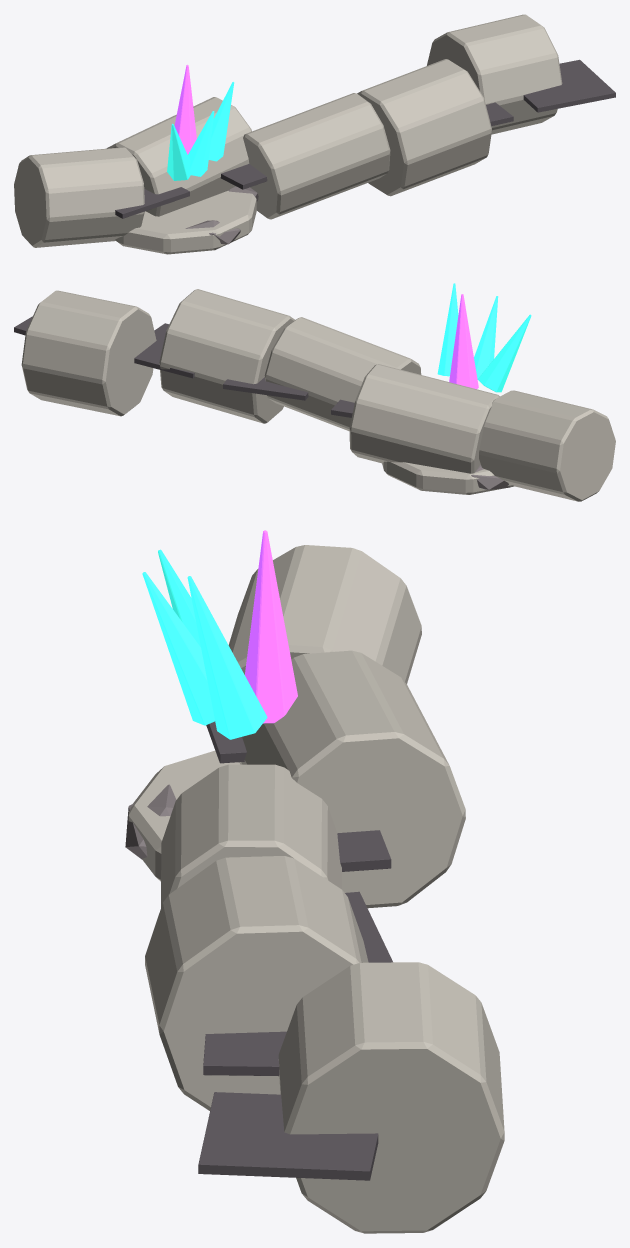
Rendered from runtime.glb.
3 views of the same model, one above another, from view 1: azimuth 30°, elevation 25°; view 2: azimuth 150°, elevation 25°; view 3: azimuth 270°, elevation 25° (orthographic). The views are drawn at different scales.
Visible parts, largest first — view 1: crystal-ruins-damaged-column-v08_fallen_02_nocol, crystal-ruins-damaged-column-v08_fallen_03_nocol, crystal-ruins-damaged-column-v08_fallen_00_nocol, crystal-ruins-damaged-column-v08_fallen_04_nocol, crystal-ruins-damaged-column-v08_fallen_01_nocol, crystal-ruins-damaged-column-v08_base_nocol, crystal-ruins-damaged-column-v08_fracture_04_nocol, crystal-ruins-damaged-column-v08_crystal_01_nocol, crystal-ruins-damaged-column-v08_crystal_00_nocol, crystal-ruins-damaged-column-v08_crystal_03_nocol, crystal-ruins-damaged-column-v08_crystal_02_nocol, crystal-ruins-damaged-column-v08_fracture_00_nocol (+3 smaller); view 2: crystal-ruins-damaged-column-v08_fallen_04_nocol, crystal-ruins-damaged-column-v08_fallen_01_nocol, crystal-ruins-damaged-column-v08_fallen_03_nocol, crystal-ruins-damaged-column-v08_fallen_00_nocol, crystal-ruins-damaged-column-v08_fallen_02_nocol, crystal-ruins-damaged-column-v08_base_nocol, crystal-ruins-damaged-column-v08_crystal_01_nocol, crystal-ruins-damaged-column-v08_crystal_02_nocol, crystal-ruins-damaged-column-v08_fracture_02_nocol, crystal-ruins-damaged-column-v08_crystal_03_nocol, crystal-ruins-damaged-column-v08_crystal_00_nocol, crystal-ruins-damaged-column-v08_fracture_03_nocol (+2 smaller); view 3: crystal-ruins-damaged-column-v08_fallen_04_nocol, crystal-ruins-damaged-column-v08_fallen_03_nocol, crystal-ruins-damaged-column-v08_fallen_01_nocol, crystal-ruins-damaged-column-v08_fallen_02_nocol, crystal-ruins-damaged-column-v08_fallen_00_nocol, crystal-ruins-damaged-column-v08_fracture_04_nocol, crystal-ruins-damaged-column-v08_crystal_01_nocol, crystal-ruins-damaged-column-v08_crystal_00_nocol, crystal-ruins-damaged-column-v08_base_nocol, crystal-ruins-damaged-column-v08_crystal_03_nocol, crystal-ruins-damaged-column-v08_fracture_03_nocol, crystal-ruins-damaged-column-v08_fracture_01_nocol (+4 smaller).
Boxes of the visible parts, <box> form: crystal-ruins-damaged-column-v08_fallen_02_nocol: <box>243,93,390,219</box>; crystal-ruins-damaged-column-v08_fallen_03_nocol: <box>357,59,491,196</box>; crystal-ruins-damaged-column-v08_fallen_00_nocol: <box>14,147,144,247</box>; crystal-ruins-damaged-column-v08_fallen_04_nocol: <box>427,14,562,134</box>; crystal-ruins-damaged-column-v08_fallen_01_nocol: <box>106,97,251,216</box>; crystal-ruins-damaged-column-v08_base_nocol: <box>115,190,256,254</box>; crystal-ruins-damaged-column-v08_fracture_04_nocol: <box>523,59,615,112</box>; crystal-ruins-damaged-column-v08_crystal_01_nocol: <box>174,64,196,154</box>; crystal-ruins-damaged-column-v08_crystal_00_nocol: <box>208,82,234,161</box>; crystal-ruins-damaged-column-v08_crystal_03_nocol: <box>188,111,214,176</box>; crystal-ruins-damaged-column-v08_crystal_02_nocol: <box>167,123,190,180</box>; crystal-ruins-damaged-column-v08_fracture_00_nocol: <box>115,187,189,218</box>; crystal-ruins-damaged-column-v08_fallen_04_nocol: <box>21,290,156,416</box>; crystal-ruins-damaged-column-v08_fallen_01_nocol: <box>349,364,499,473</box>; crystal-ruins-damaged-column-v08_fallen_03_nocol: <box>159,289,294,423</box>; crystal-ruins-damaged-column-v08_fallen_00_nocol: <box>479,390,615,501</box>; crystal-ruins-damaged-column-v08_fallen_02_nocol: <box>264,317,421,431</box>; crystal-ruins-damaged-column-v08_base_nocol: <box>382,461,514,494</box>; crystal-ruins-damaged-column-v08_crystal_01_nocol: <box>449,294,478,389</box>; crystal-ruins-damaged-column-v08_crystal_02_nocol: <box>477,314,531,392</box>; crystal-ruins-damaged-column-v08_fracture_02_nocol: <box>223,377,308,400</box>; crystal-ruins-damaged-column-v08_crystal_03_nocol: <box>474,296,498,378</box>; crystal-ruins-damaged-column-v08_crystal_00_nocol: <box>437,283,458,376</box>; crystal-ruins-damaged-column-v08_fracture_03_nocol: <box>134,323,194,378</box>; crystal-ruins-damaged-column-v08_fallen_04_nocol: <box>278,962,504,1233</box>; crystal-ruins-damaged-column-v08_fallen_03_nocol: <box>145,856,368,1110</box>; crystal-ruins-damaged-column-v08_fallen_01_nocol: <box>239,650,465,908</box>; crystal-ruins-damaged-column-v08_fallen_02_nocol: <box>161,764,341,907</box>; crystal-ruins-damaged-column-v08_fallen_00_nocol: <box>228,545,421,683</box>; crystal-ruins-damaged-column-v08_fracture_04_nocol: <box>198,1092,378,1180</box>; crystal-ruins-damaged-column-v08_crystal_01_nocol: <box>245,530,297,723</box>; crystal-ruins-damaged-column-v08_crystal_00_nocol: <box>187,576,267,739</box>; crystal-ruins-damaged-column-v08_base_nocol: <box>128,750,240,881</box>; crystal-ruins-damaged-column-v08_crystal_03_nocol: <box>142,572,214,725</box>; crystal-ruins-damaged-column-v08_fracture_03_nocol: <box>203,1031,286,1076</box>; crystal-ruins-damaged-column-v08_fracture_01_nocol: <box>337,830,391,871</box>.
Size of the model in its own units: 9.95 by 2.87 by 2.89.
